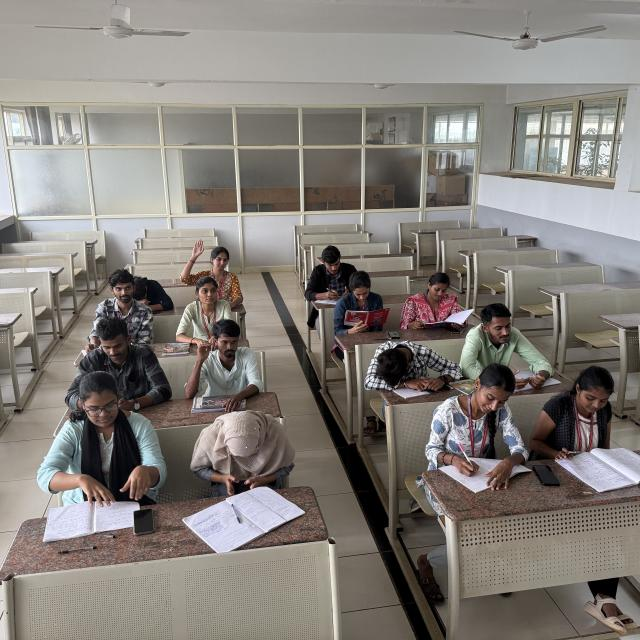Hand Rising: (176, 240, 243, 296)
Reading: (576, 354, 634, 469), (399, 270, 475, 332), (340, 269, 390, 331)
Sleeping: (359, 339, 464, 388)
Using Phone: (188, 398, 298, 497)
Writing: (430, 368, 530, 483)
